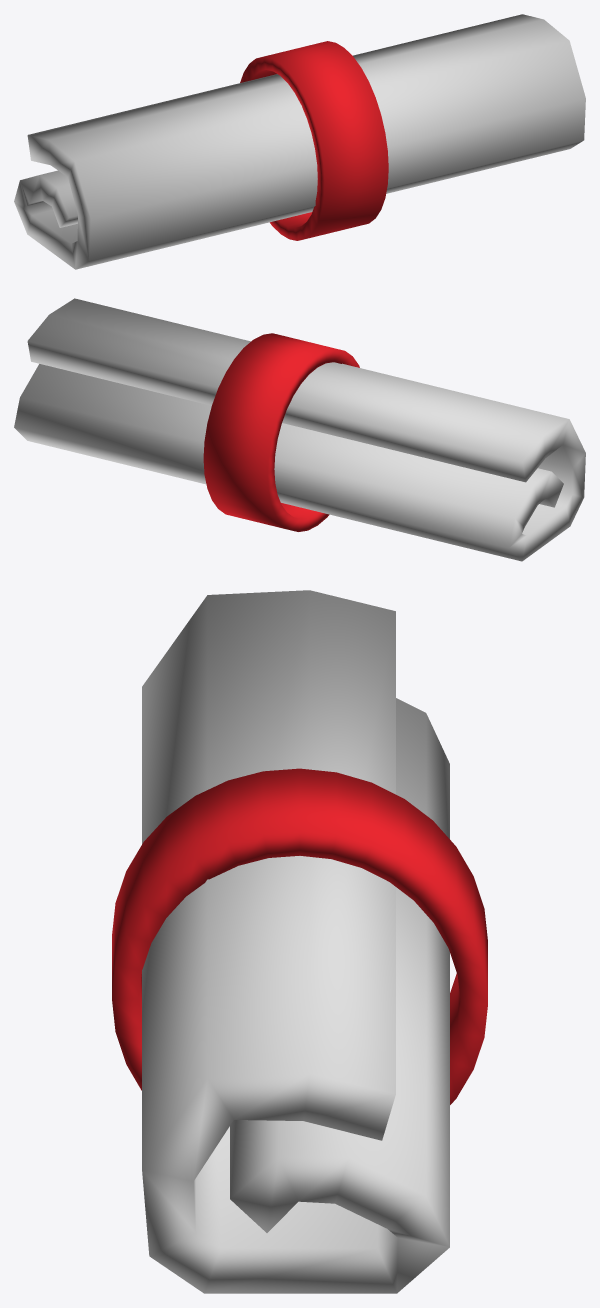
The model's file is note.glb.
The picture shows the model from 3 angles, top to bottom: view 1: azimuth 30°, elevation 25°; view 2: azimuth 150°, elevation 25°; view 3: azimuth 270°, elevation 25°; orthographic projection. The views are drawn at different scales.
Visible parts, largest first — view 1: Plane.003, Circle.004; view 2: Plane.003, Circle.004; view 3: Plane.003, Circle.004.
Part boxes in pixels (bbox=[...]): Plane.003: bbox=[14, 14, 585, 269]; Circle.004: bbox=[240, 41, 388, 240]; Plane.003: bbox=[14, 298, 585, 561]; Circle.004: bbox=[203, 333, 359, 531]; Plane.003: bbox=[142, 590, 449, 1293]; Circle.004: bbox=[112, 768, 487, 1104].
Bounding box in the file's own units: 6.23 × 2.05 × 2.05.
